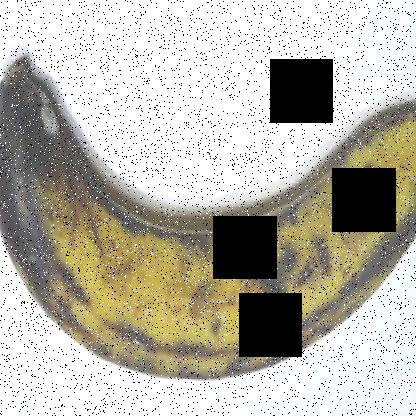overripe: (0, 61, 415, 388)
rotten: (0, 63, 102, 315)
